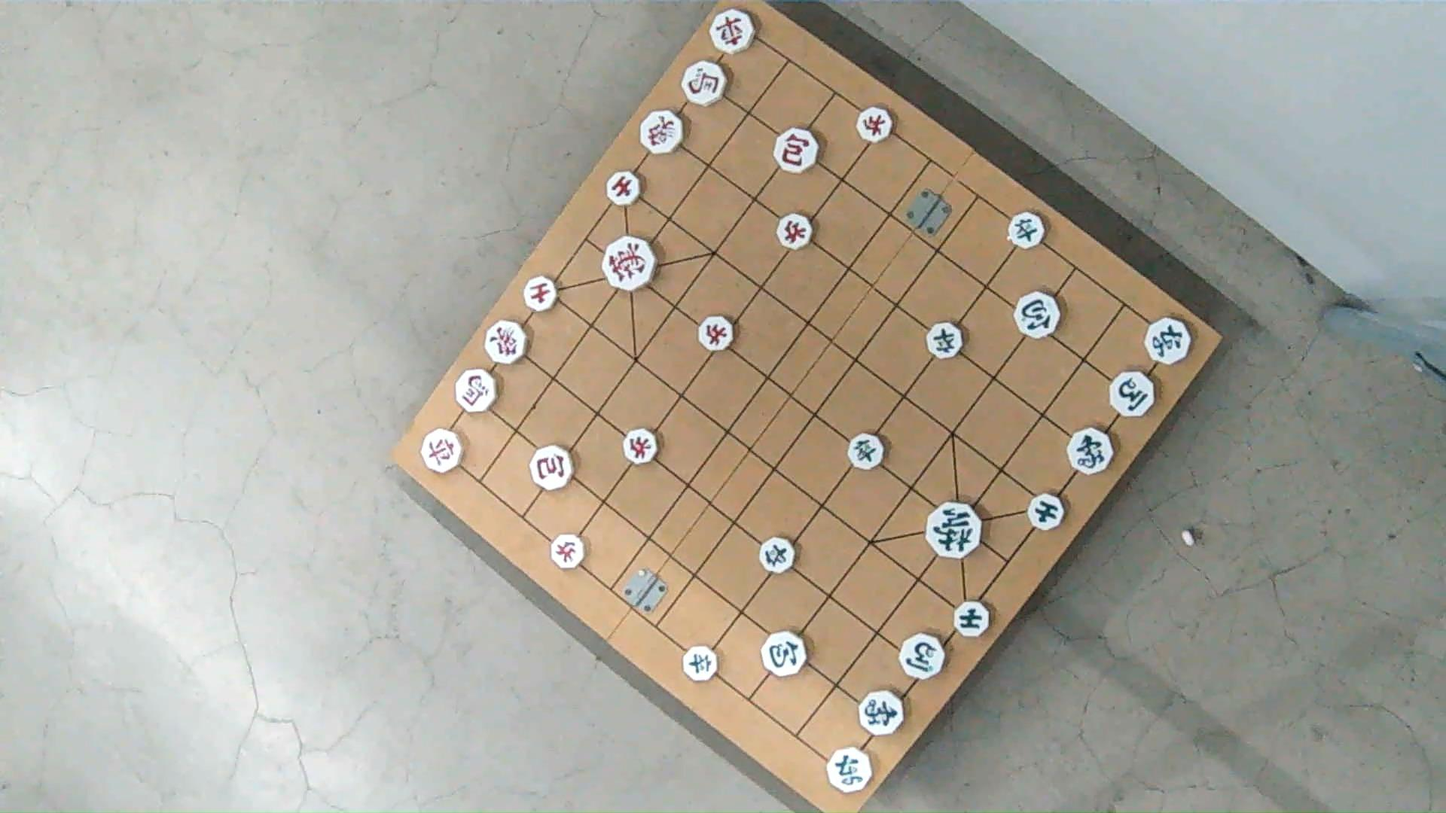cha_green: (1142, 315, 1193, 366), (824, 749, 871, 792)
cha_red: (708, 11, 758, 51), (419, 431, 465, 472)
jol_green: (1007, 213, 1048, 248), (926, 326, 966, 361), (678, 646, 718, 680), (848, 435, 886, 469), (761, 538, 799, 572)
jol_red: (622, 430, 661, 464), (776, 215, 815, 249), (697, 317, 735, 351), (857, 109, 896, 142), (549, 535, 586, 568)
ma_green: (897, 633, 945, 678), (1107, 372, 1155, 414)
ma_red: (454, 368, 501, 411), (679, 62, 728, 103)
po_green: (1014, 293, 1065, 338), (761, 634, 810, 678)
po_red: (774, 129, 822, 172), (532, 448, 576, 491)
sa_green: (951, 602, 991, 635), (1026, 495, 1064, 529)
sa_red: (604, 171, 643, 206), (520, 278, 559, 312)
sang_green: (1067, 427, 1112, 475), (858, 690, 901, 737)
sang_red: (484, 319, 529, 364), (638, 113, 684, 155)
wang_green: (925, 504, 983, 559)
wang_red: (604, 239, 660, 291)
